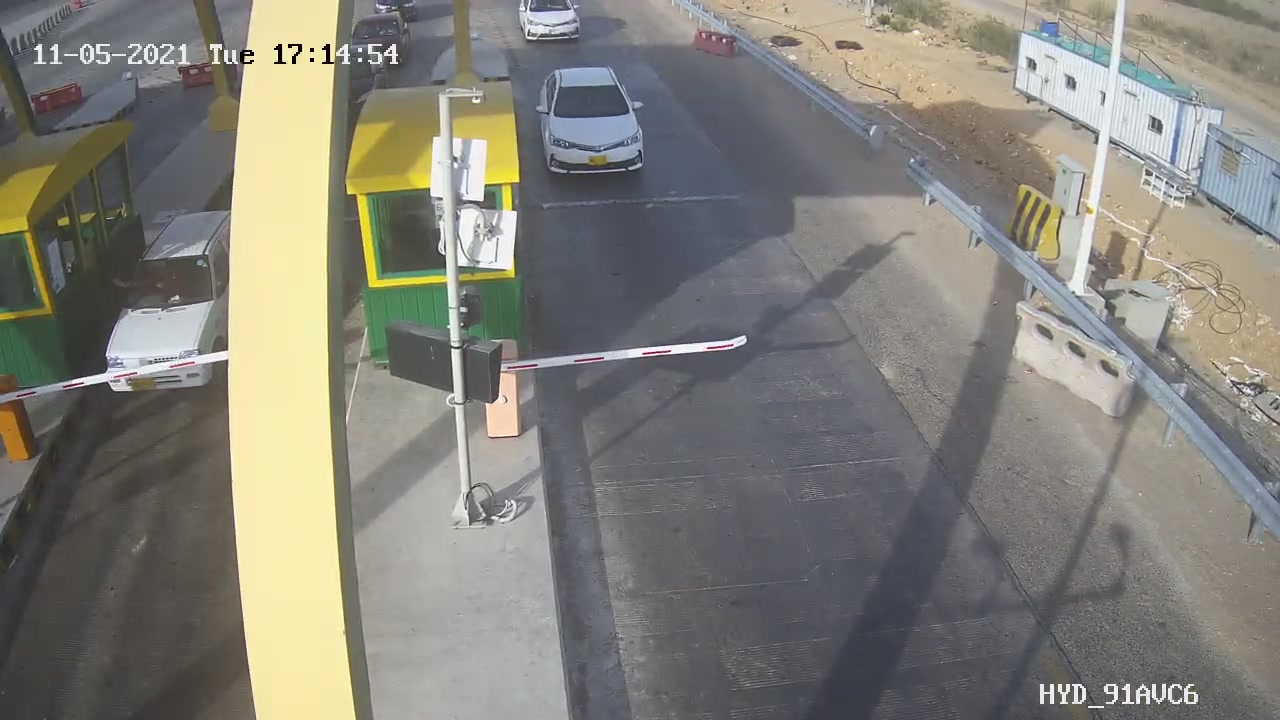F1: (524, 51, 659, 194)
